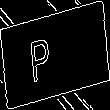P_N: (43, 27, 67, 83)
